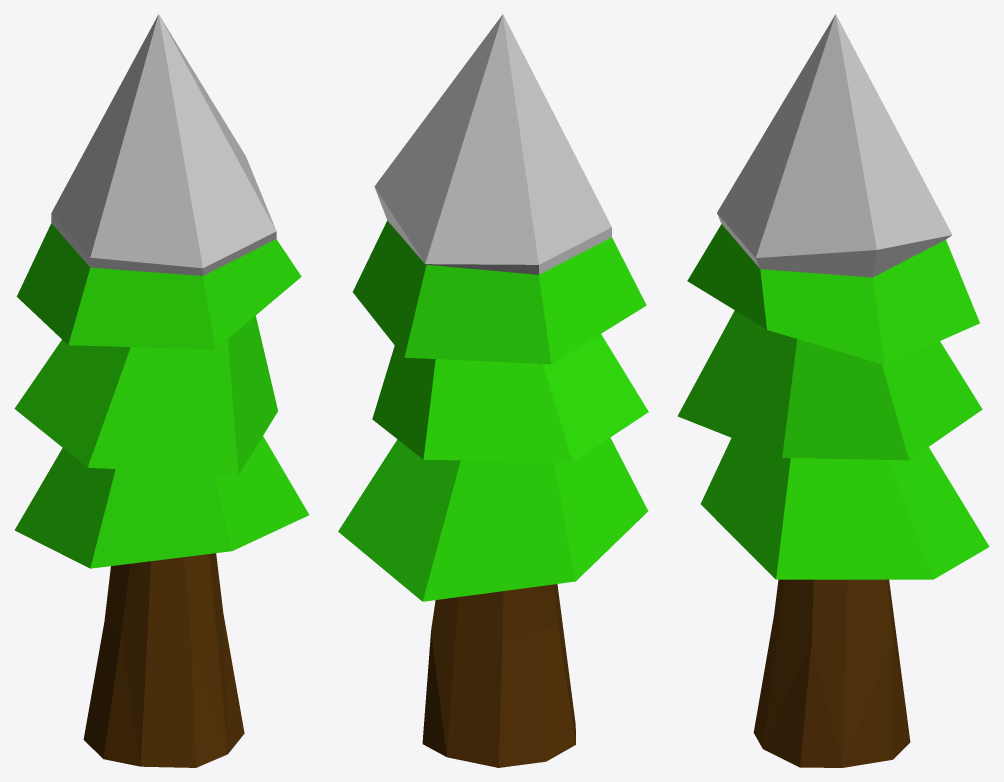
File: Pine tree#2_Snow.fbx
3 renders of one model, left to right at view 1: azimuth 30°, elevation 25°; view 2: azimuth 150°, elevation 25°; view 3: azimuth 270°, elevation 25°, orthographic.
Visible parts, largest first — view 1: Pine tree#2_Snow; view 2: Pine tree#2_Snow; view 3: Pine tree#2_Snow.
Boxes of the visible parts, x1,y1,x2,y2 form: Pine tree#2_Snow: [14, 14, 309, 767]; Pine tree#2_Snow: [338, 14, 648, 767]; Pine tree#2_Snow: [677, 14, 989, 767].
Size of the model in its own units: 255 by 724 by 284.
